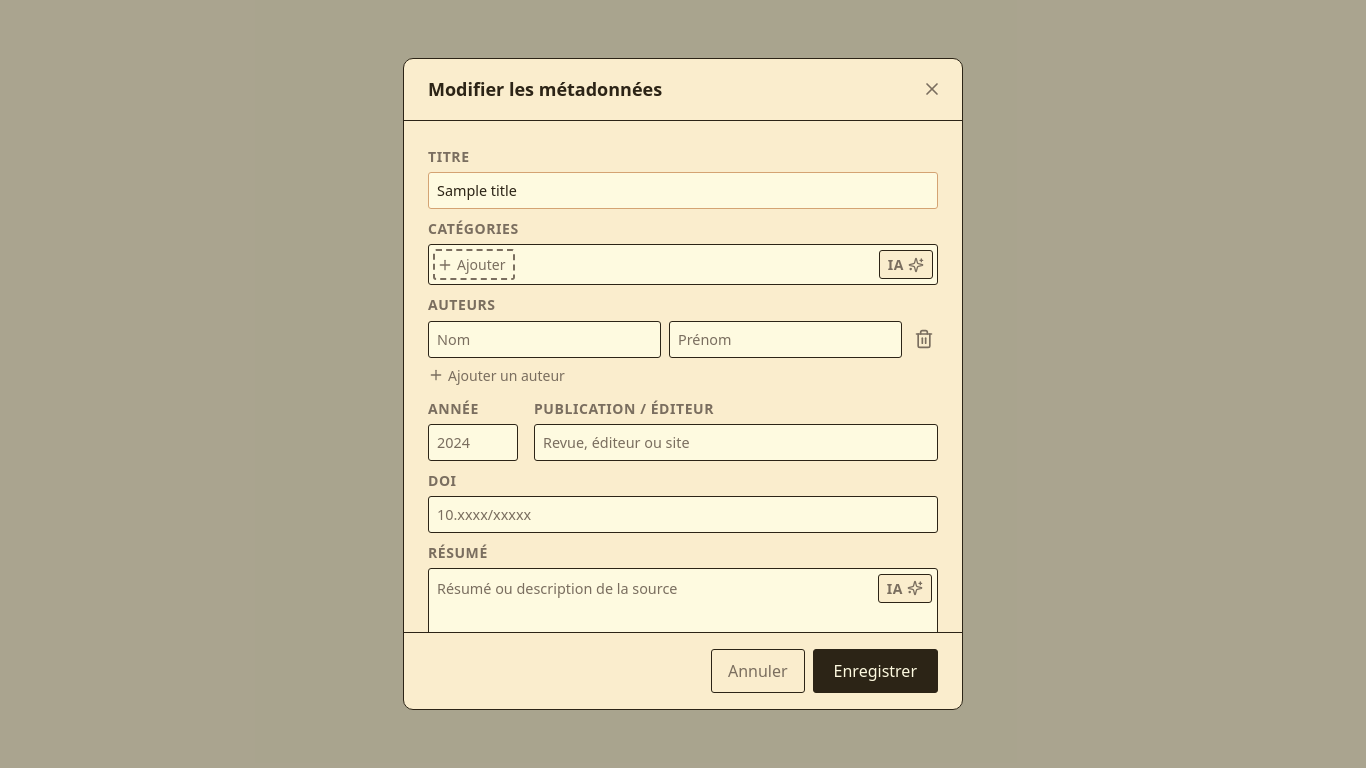
MetadataModal — handleGenerateAbstract › opens a popover on "+ Ajouter" and commits a category on Enter
Click the button with aria-label "ajouter une catégorie". click: point(474, 265)
box: [433, 250, 515, 280]
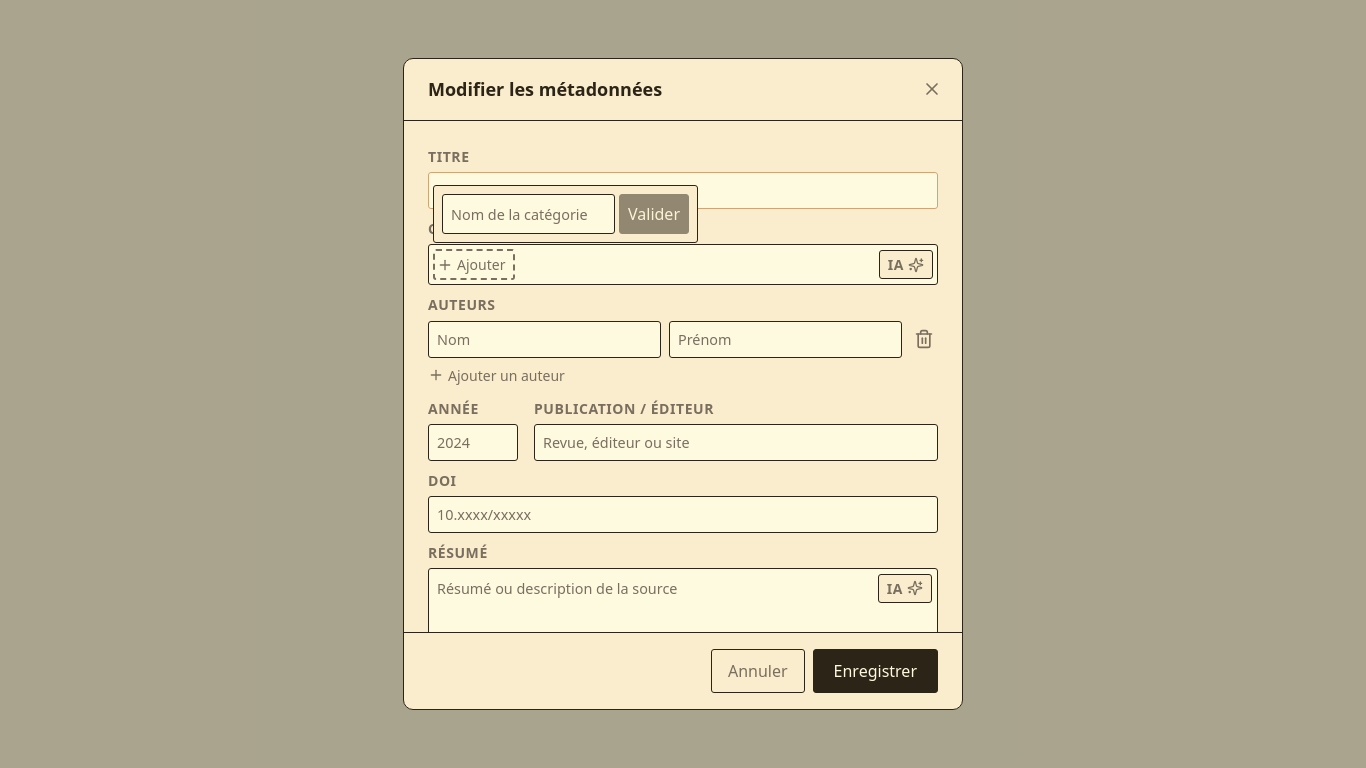
Type "Nouveau" into the field with placeholder "Nom de la catégorie". click: point(528, 214)
box: [442, 194, 615, 234]
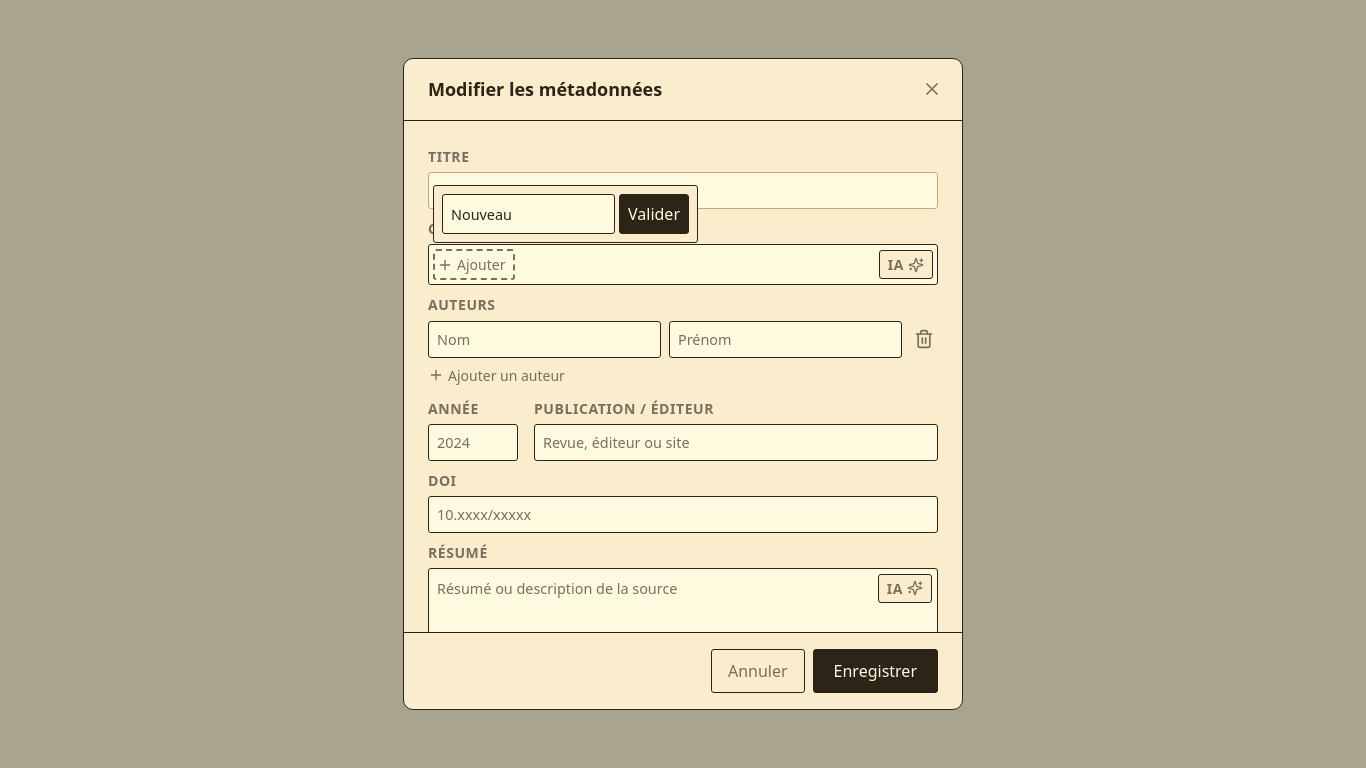
Press Enter in the field with placeholder "Nom de la catégorie", box [442, 194, 615, 234]
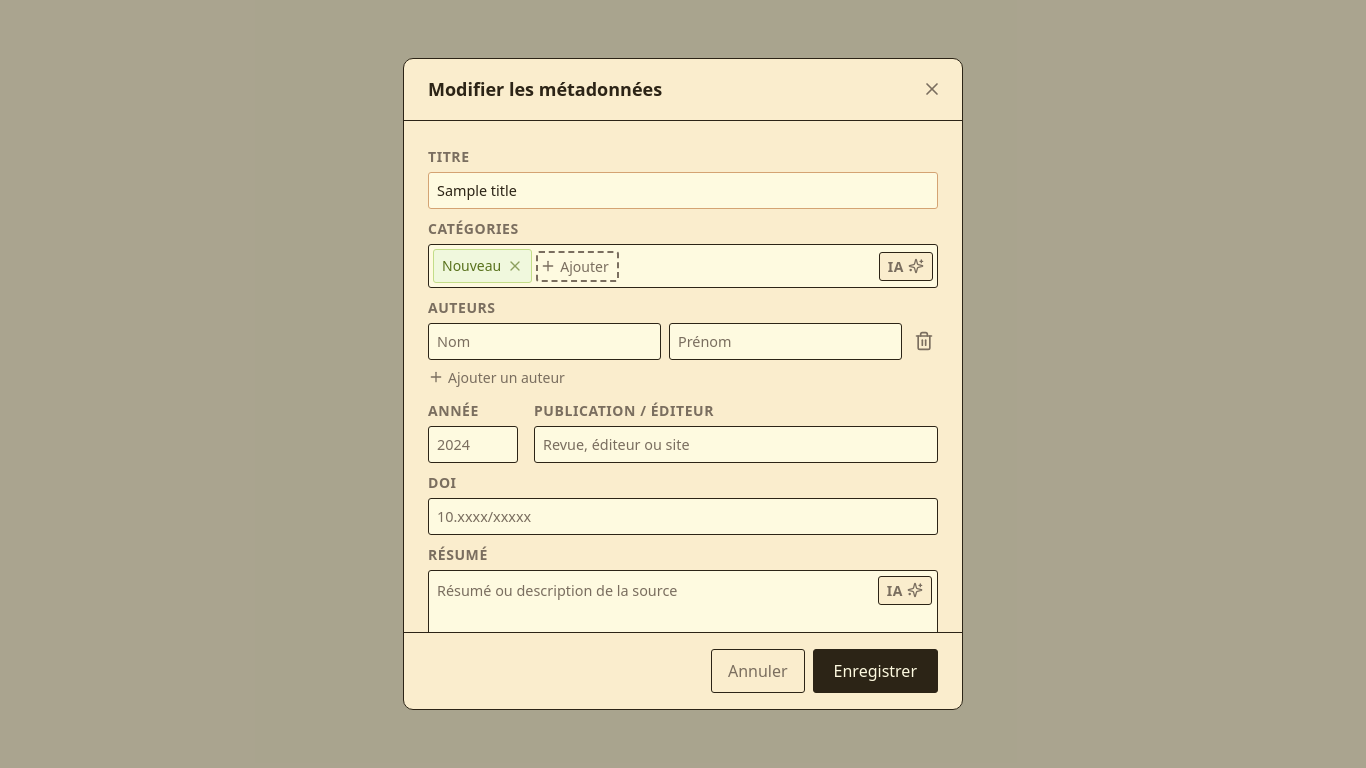
Expected: the field with placeholder "Nom de la catégorie" is not shown
Result: the text "Nouveau" is shown at [433, 250, 532, 283]
